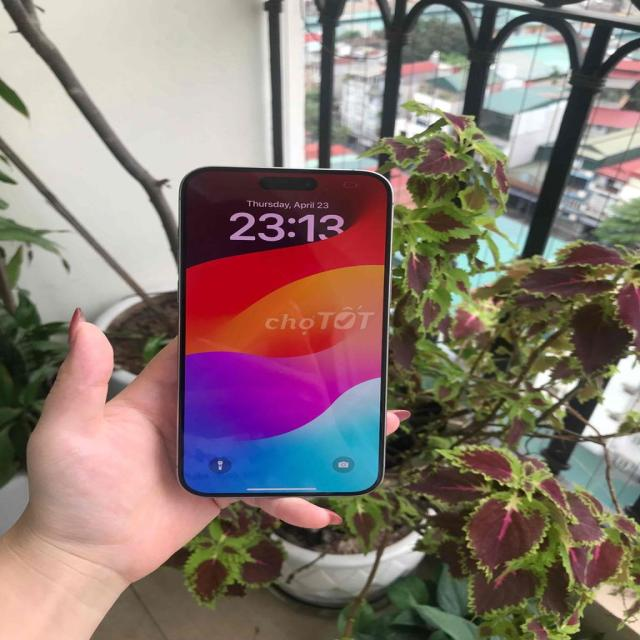gen_15: (158, 143, 394, 522)
